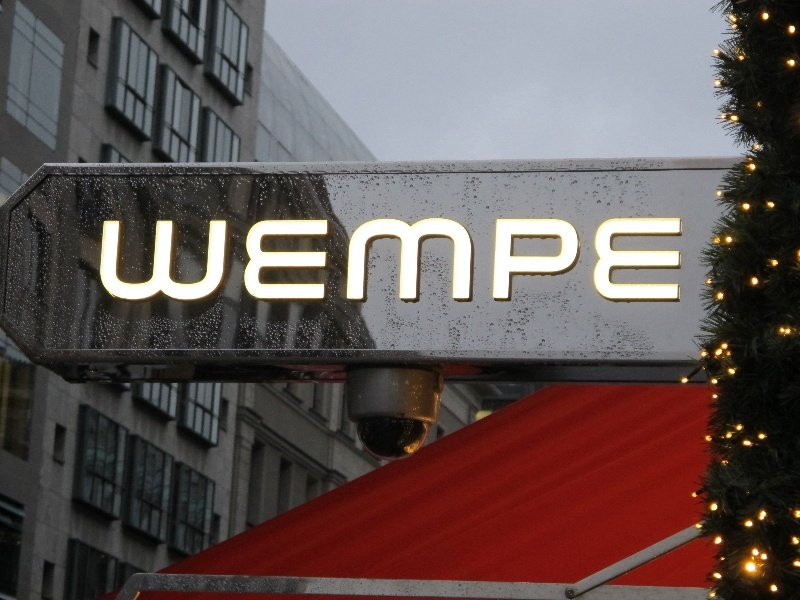text: (113, 217, 128, 306), (129, 217, 144, 306), (145, 217, 160, 306), (161, 217, 176, 306), (177, 217, 192, 306), (193, 217, 208, 306), (209, 217, 224, 306), (225, 217, 240, 306), (241, 217, 256, 306), (257, 217, 272, 306), (273, 217, 288, 306), (289, 217, 304, 306), (305, 217, 320, 306), (321, 217, 336, 306), (337, 217, 352, 306), (353, 217, 368, 306), (369, 217, 384, 306), (385, 217, 400, 306), (401, 217, 416, 306), (417, 217, 432, 306), (433, 217, 448, 306), (449, 217, 464, 306), (465, 217, 480, 306), (481, 217, 496, 306), (497, 217, 512, 306), (513, 217, 528, 306), (529, 217, 544, 306), (545, 217, 560, 306), (561, 217, 576, 306), (577, 217, 592, 306), (593, 217, 608, 306), (609, 217, 624, 306), (625, 217, 640, 306), (641, 217, 656, 306), (657, 217, 672, 306), (673, 217, 685, 306), (102, 217, 112, 306)
